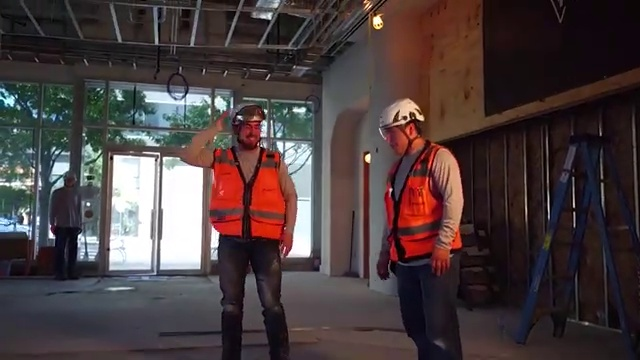helmet: (376, 93, 427, 128), (228, 99, 266, 125)
jacket: (380, 148, 469, 266), (213, 144, 289, 243)
